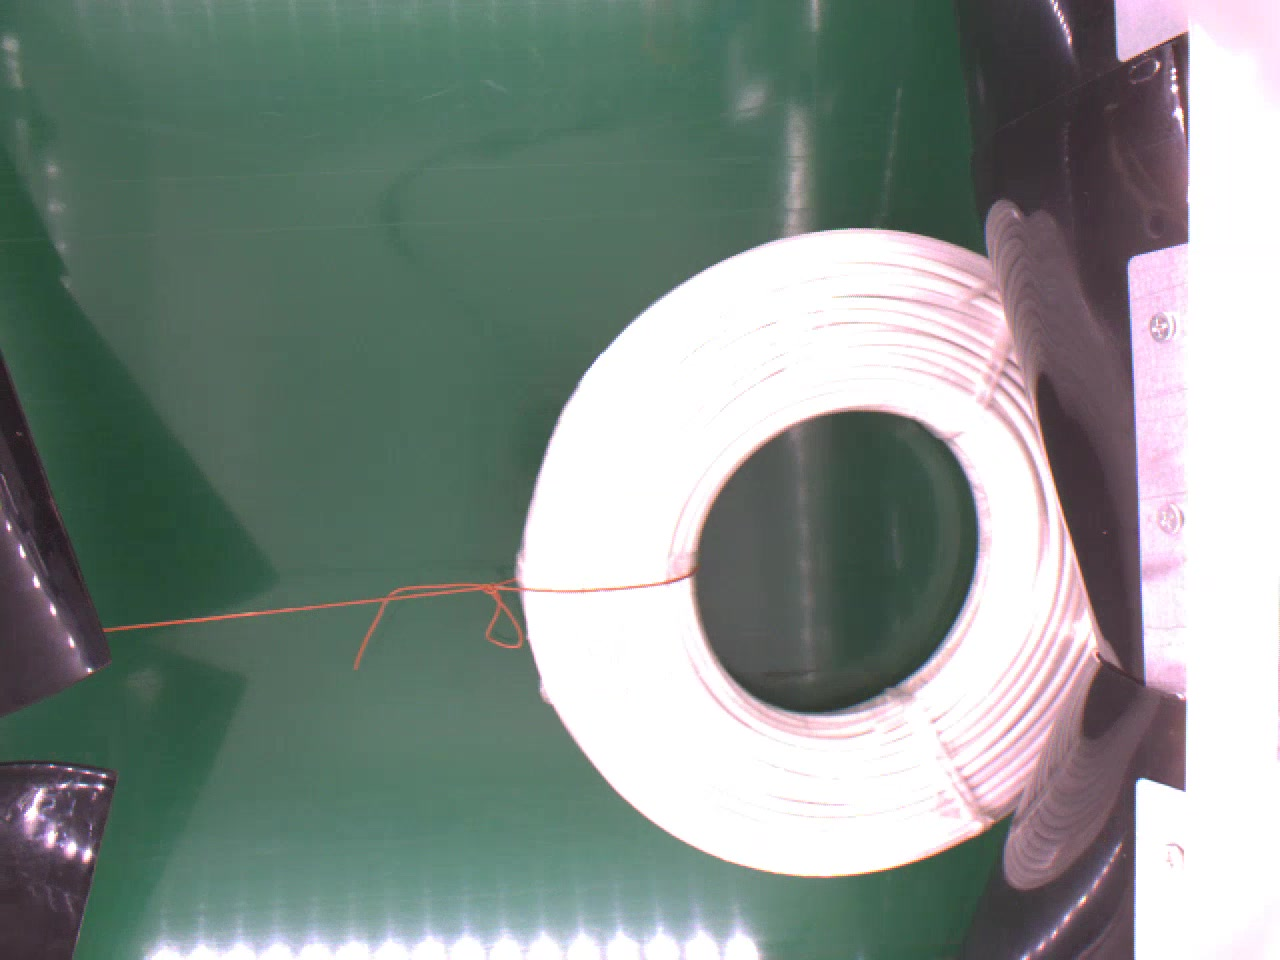white: (514, 223, 1093, 874)
